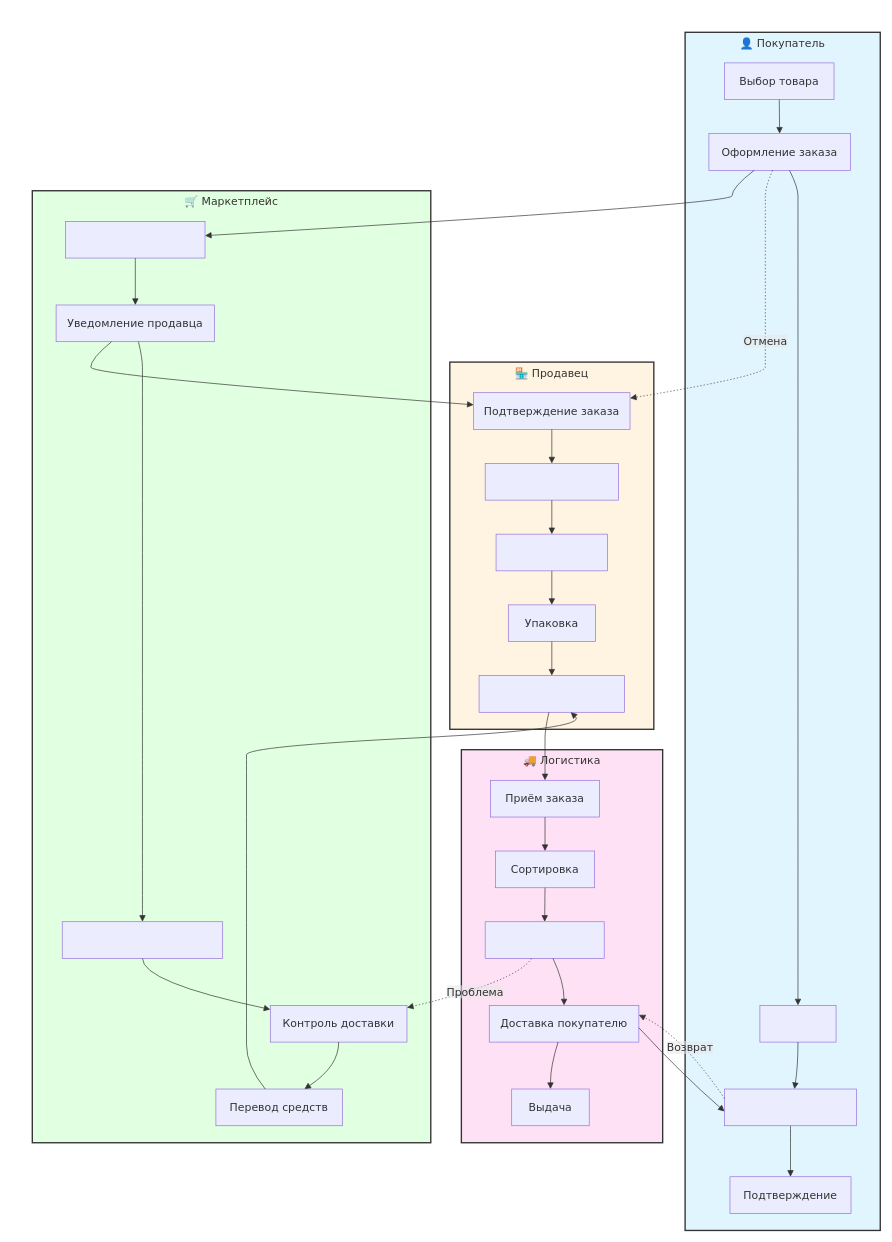
The diagram is 892 pixels wide and 1242 high, and some of its shapes have lost their labels. The centre of each missing label's shape, as x and y in pixels:
Генерация трек-номера: the point at 142,939
Обработка платежа: the point at 135,239
Оплата: the point at 797,1023
Передача в доставку: the point at 551,693
Получение товара: the point at 790,1107
Проверка наличия: the point at 551,481
Сборка заказа: the point at 551,552
Транзит до ПВЗ: the point at 544,939
